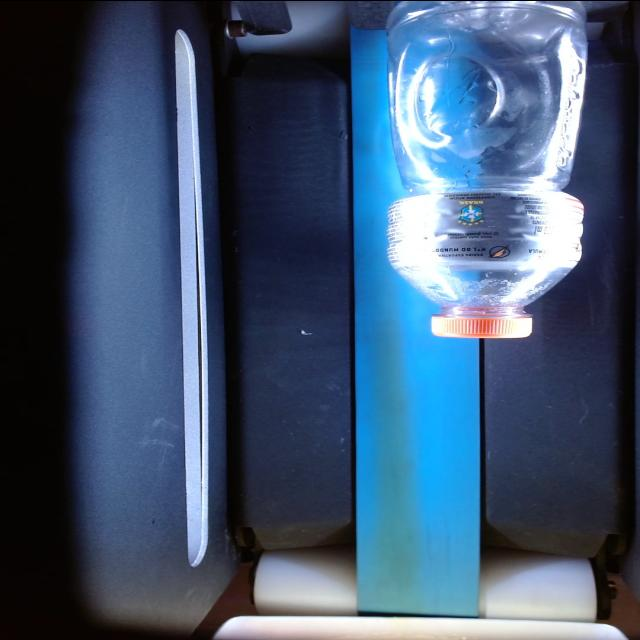bottom: (376, 0, 606, 41)
